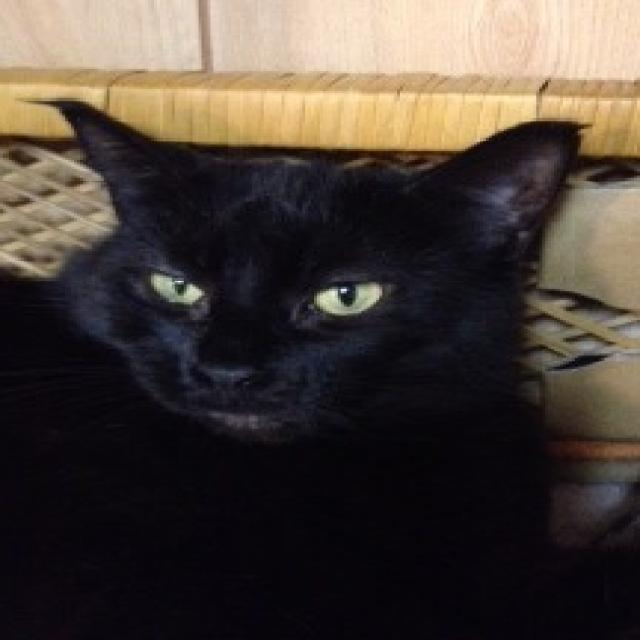Bombay: (0, 93, 593, 640)
